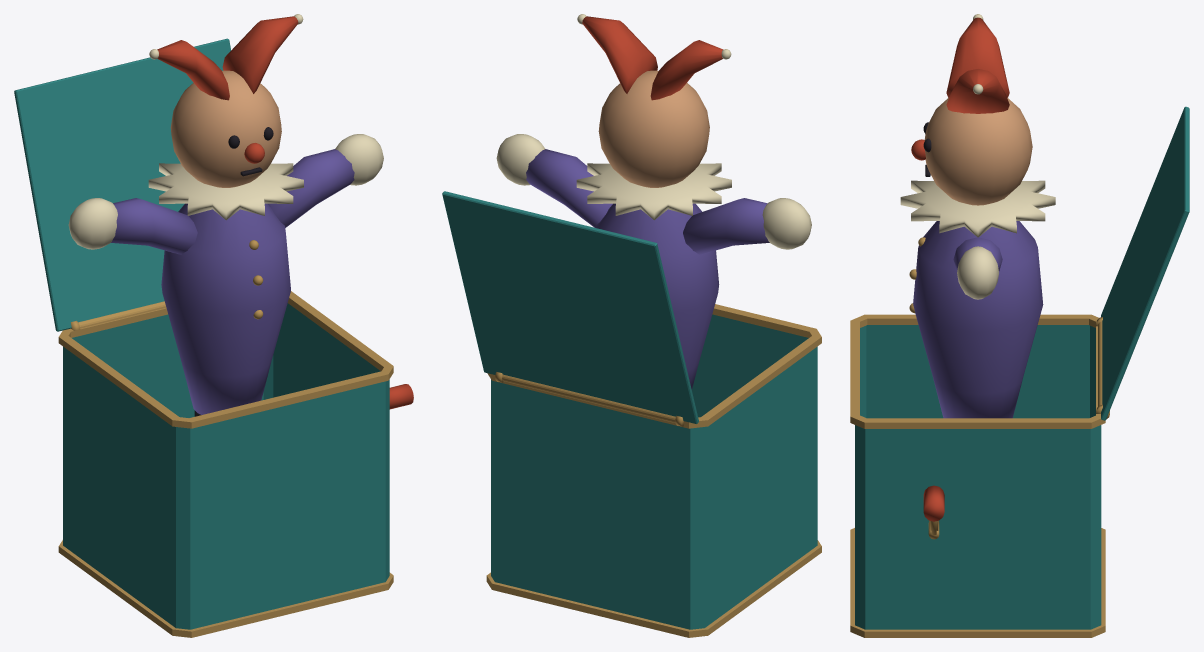
Rendered from full.glb.
3 renders of one model, left to right at view 1: azimuth 30°, elevation 25°; view 2: azimuth 150°, elevation 25°; view 3: azimuth 270°, elevation 25°, orthographic.
Visible parts, largest first — view 1: Open thin metal box, Open square hinged lid, Loose tapering cloth torso, Rounded puppet head, Upper rolled box rim, Pointed pleated neck ruff, Left raised cloth arm, Lower rolled box rim, Right raised cloth arm, Right two point hat horn, Left two point hat horn, Left mitten hand (+2 smaller); view 2: Open thin metal box, Open square hinged lid, Rounded puppet head, Loose tapering cloth torso, Pointed pleated neck ruff, Upper rolled box rim, Left raised cloth arm, Lower rolled box rim, Right raised cloth arm, Right two point hat horn, Left two point hat horn, Left mitten hand (+2 smaller); view 3: Open thin metal box, Loose tapering cloth torso, Open square hinged lid, Rounded puppet head, Upper rolled box rim, Pointed pleated neck ruff, Lower rolled box rim, Left two point hat horn, Right two point hat horn, Right mitten hand, Crank rounded grip, Right raised cloth arm.
Boxes of the visible parts, <box> form: Open thin metal box: <box>63,303,389,629</box>; Open square hinged lid: <box>14,38,230,331</box>; Loose tapering cloth torso: <box>161,203,290,414</box>; Rounded puppet head: <box>170,70,281,187</box>; Upper rolled box rim: <box>58,291,393,428</box>; Pointed pleated neck ruff: <box>148,163,303,220</box>; Left raised cloth arm: <box>111,198,197,254</box>; Lower rolled box rim: <box>58,540,393,637</box>; Right raised cloth arm: <box>268,149,354,227</box>; Right two point hat horn: <box>222,16,298,93</box>; Left two point hat horn: <box>157,40,229,100</box>; Left mitten hand: <box>68,198,117,249</box>; Open thin metal box: <box>491,314,817,629</box>; Open square hinged lid: <box>442,191,698,423</box>; Rounded puppet head: <box>598,70,709,187</box>; Loose tapering cloth torso: <box>595,203,719,389</box>; Pointed pleated neck ruff: <box>576,163,731,220</box>; Upper rolled box rim: <box>487,304,821,428</box>; Left raised cloth arm: <box>683,198,769,254</box>; Lower rolled box rim: <box>486,540,821,637</box>; Right raised cloth arm: <box>526,149,612,227</box>; Right two point hat horn: <box>582,16,657,93</box>; Left two point hat horn: <box>650,40,723,100</box>; Left mitten hand: <box>762,198,811,249</box>; Open thin metal box: <box>855,325,1101,629</box>; Loose tapering cloth torso: <box>913,221,1043,418</box>; Open square hinged lid: <box>1101,106,1189,420</box>; Rounded puppet head: <box>924,97,1032,205</box>; Upper rolled box rim: <box>850,314,1105,428</box>; Pointed pleated neck ruff: <box>900,180,1055,237</box>; Lower rolled box rim: <box>850,528,1105,637</box>; Left two point hat horn: <box>946,17,1009,97</box>; Right two point hat horn: <box>946,69,1009,113</box>; Right mitten hand: <box>957,246,998,299</box>; Crank rounded grip: <box>923,485,944,521</box>; Right raised cloth arm: <box>953,237,1002,270</box>.
Bounding box in the file's own units: 0.207 × 0.336 × 0.1926.
